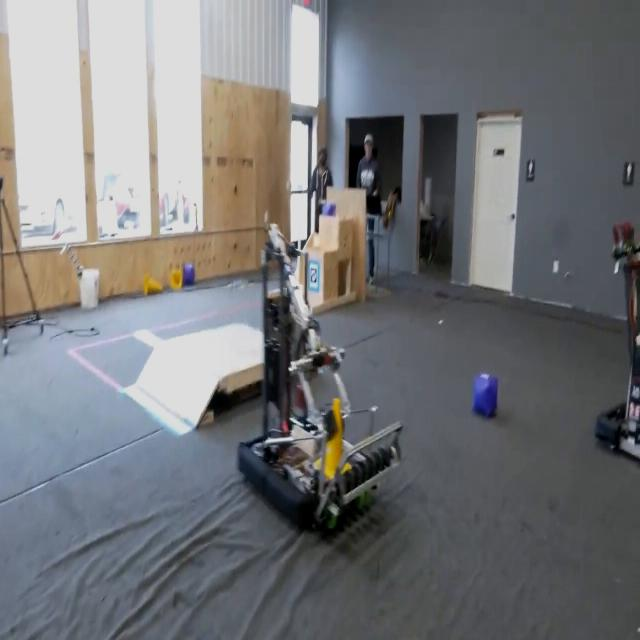frc_cone: (325, 397, 350, 490), (136, 263, 164, 299), (166, 264, 184, 290)
frc_cube: (473, 368, 503, 421), (185, 256, 198, 284), (322, 196, 336, 216)
